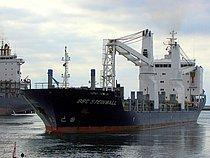Ship: (18, 27, 209, 138)
